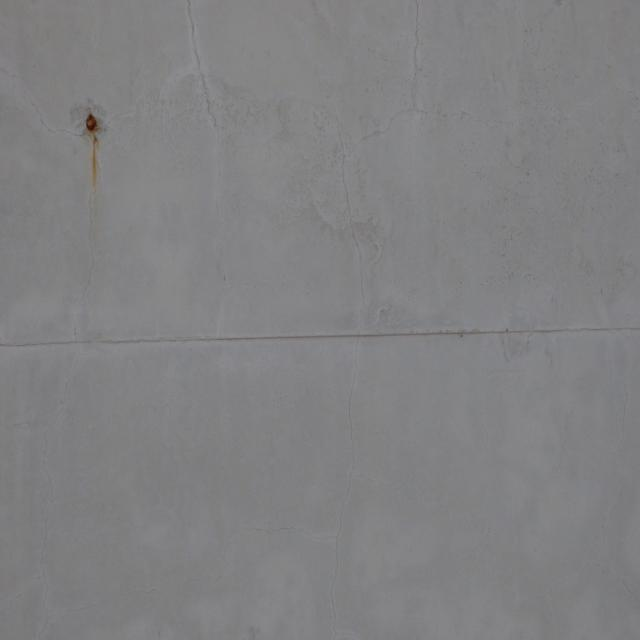corrosion: (70, 101, 124, 207)
